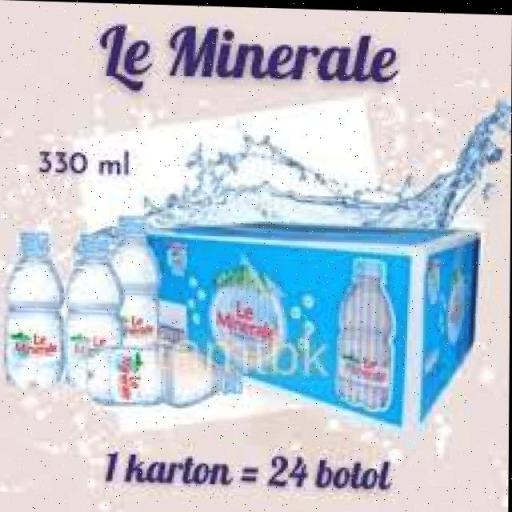plastic: (78, 343, 262, 411), (2, 224, 70, 390), (106, 203, 163, 366), (65, 233, 126, 384)
